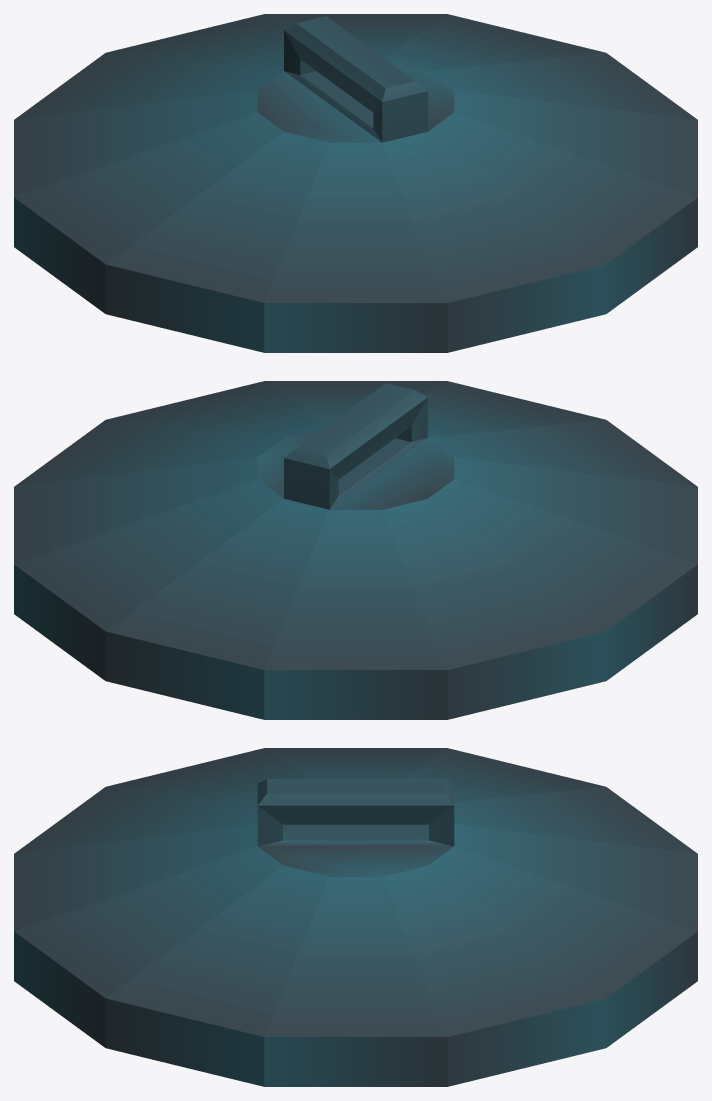
The model's file is trashcan_cap.fbx.
3 renders of one model, top to bottom at view 1: azimuth 30°, elevation 25°; view 2: azimuth 150°, elevation 25°; view 3: azimuth 270°, elevation 25°, orthographic.
Visible parts, largest first — view 1: Trashcan_v1_lid; view 2: Trashcan_v1_lid; view 3: Trashcan_v1_lid.
Part boxes in pixels (left/top/right/bottom): Trashcan_v1_lid: left=14, top=14, right=697, bottom=352; Trashcan_v1_lid: left=14, top=381, right=697, bottom=719; Trashcan_v1_lid: left=14, top=748, right=697, bottom=1086.
Bounding box in the file's own units: 146 × 36.79 × 146.
